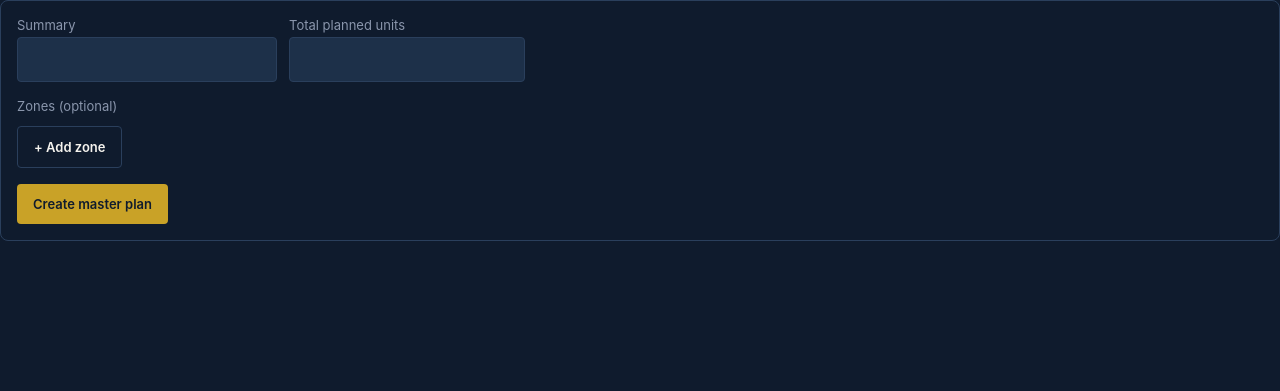
Test: CreateMasterPlanForm — rendering › removes a zone row, with no minimum-row floor (down to zero is allowed)
The width and height of the screenshot is (1280, 391).
Click the button "+ Add zone": click(70, 147) [17, 126, 122, 168]
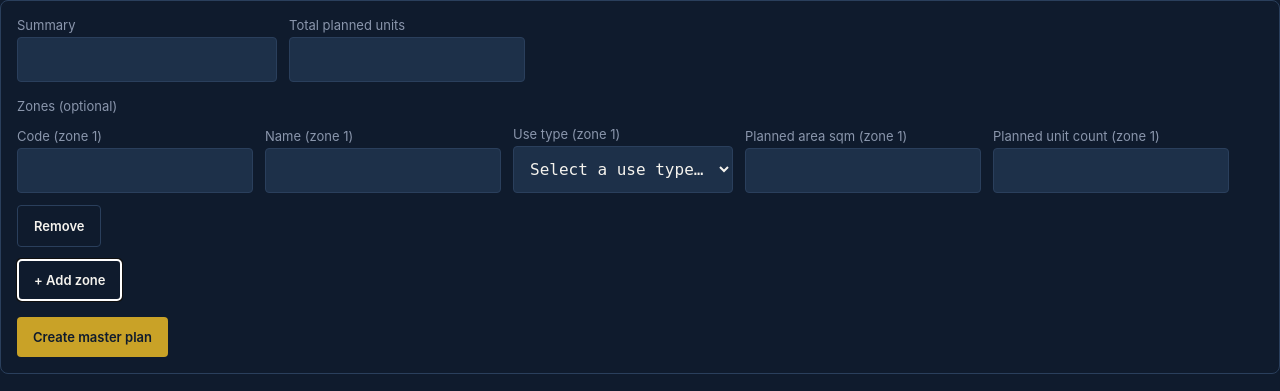
Click the button "Remove": click(59, 226) [17, 205, 102, 247]
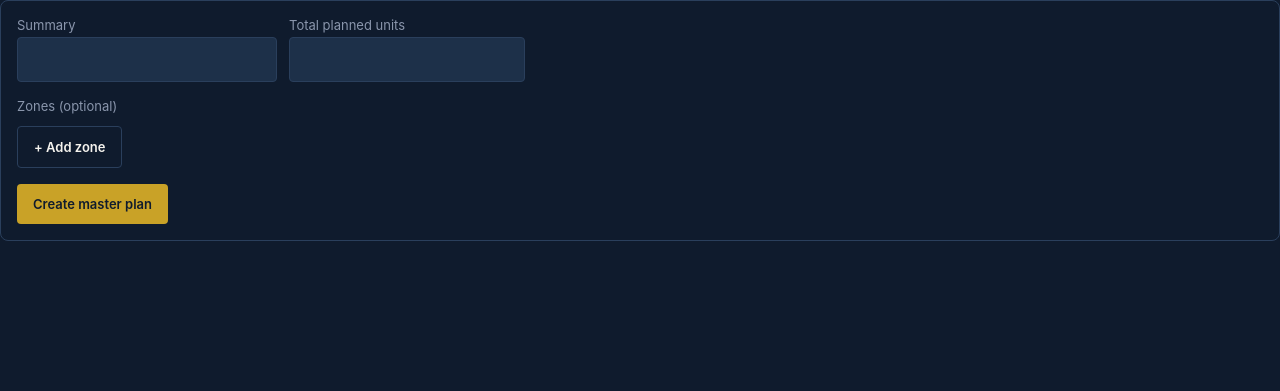
Expected: the label labelled "Code (zone 1)" is gone
